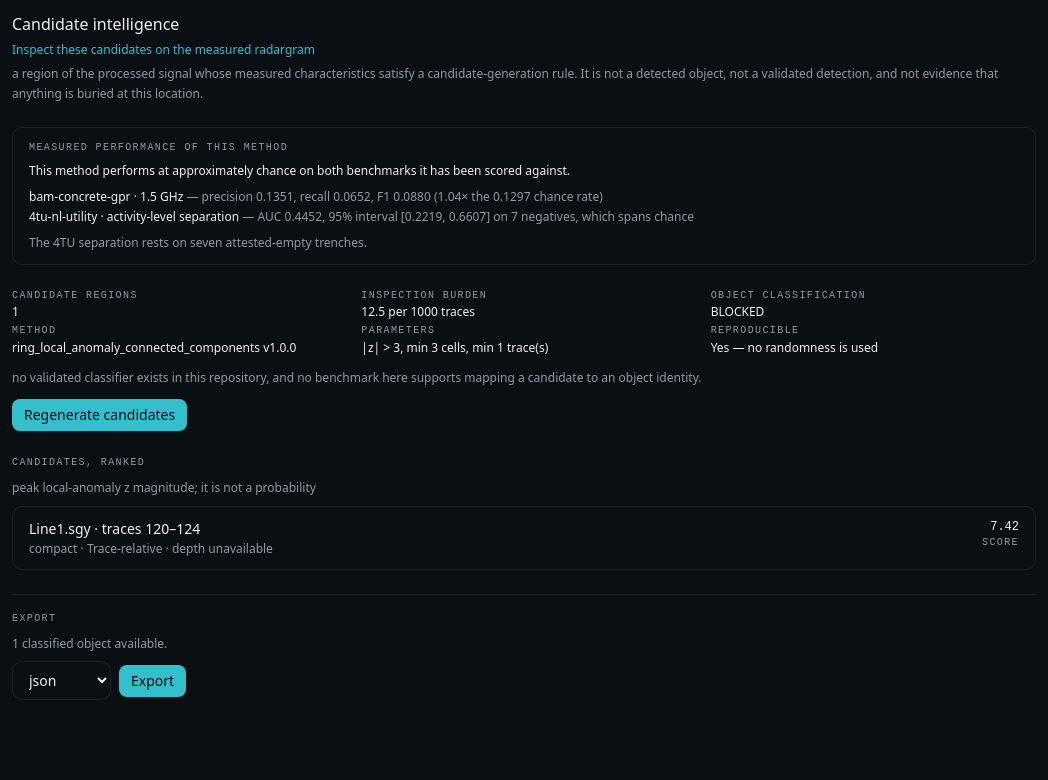
Test: export › shows the backend refusal verbatim when export is refused
Check: the text "7.42" is shown, box [990, 520, 1019, 534]
Click the button "Export" at (153, 681), box [119, 665, 186, 697]
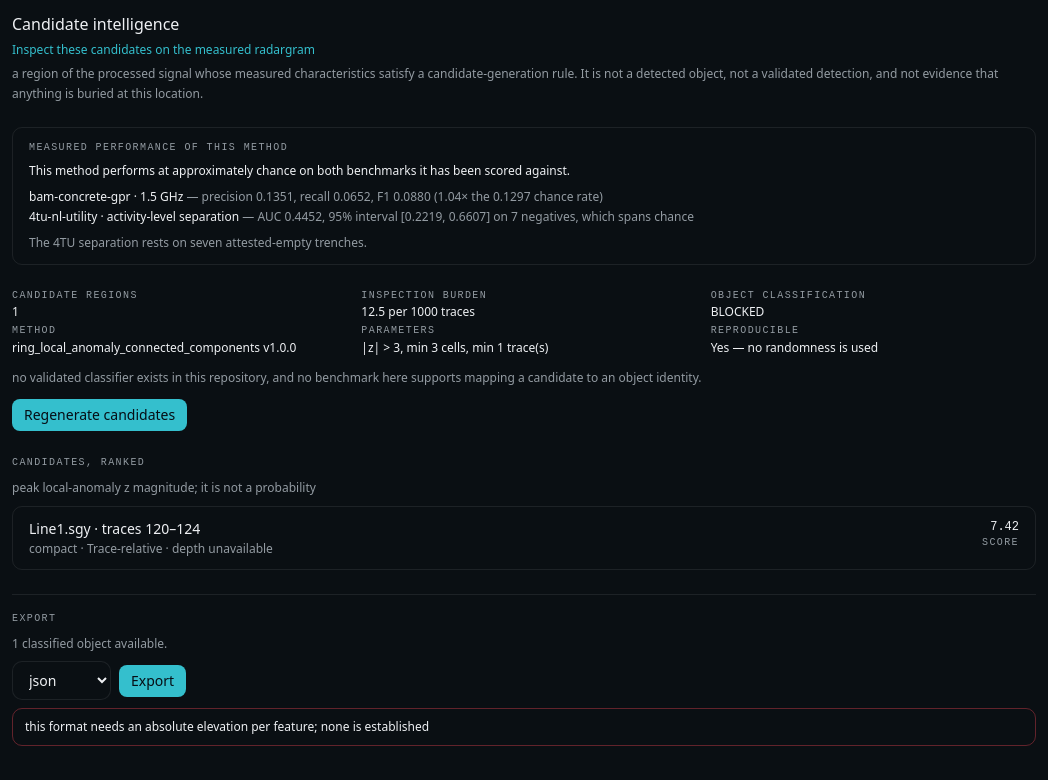
Check: the text "this format needs an absolute elevation per feature; none is established" is shown, box [12, 708, 1036, 746]
